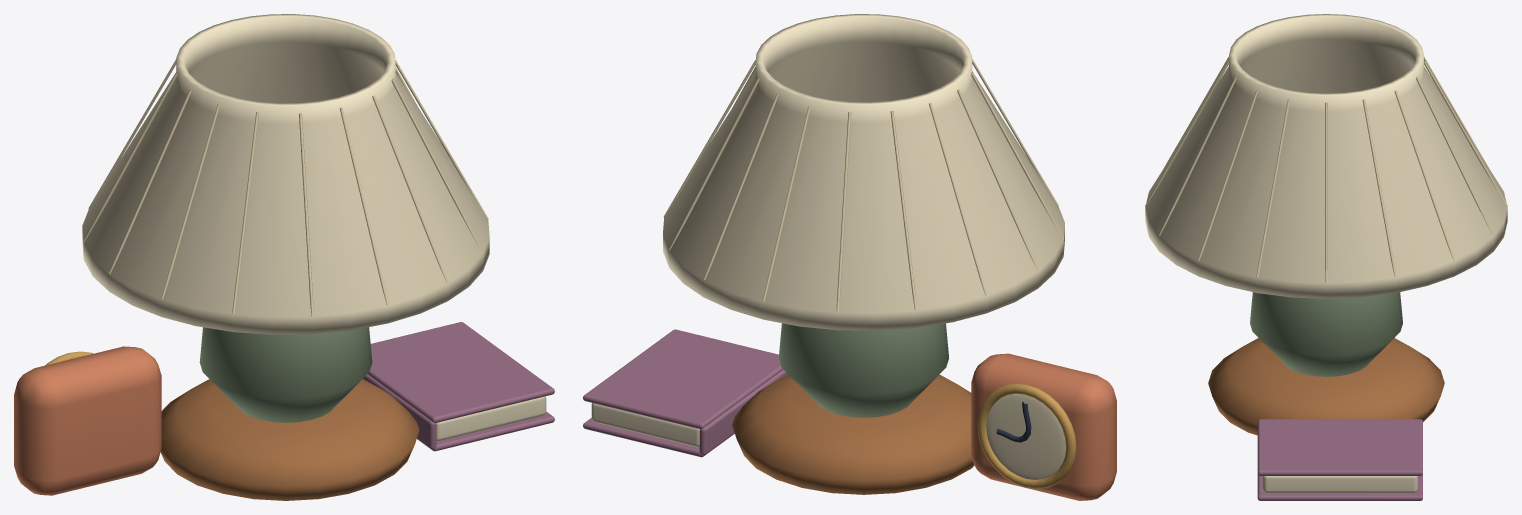
The model's file is bedside_set.glb.
3 views of the same model, side by side, from view 1: azimuth 30°, elevation 25°; view 2: azimuth 150°, elevation 25°; view 3: azimuth 270°, elevation 25° (orthographic). The views are drawn at different scales.
Parts seen in each view (by area): view 1: House07_bedside_set; view 2: House07_bedside_set; view 3: House07_bedside_set.
Boxes of the visible parts, <box> form: House07_bedside_set: <box>14,14,554,500</box>; House07_bedside_set: <box>583,14,1116,500</box>; House07_bedside_set: <box>1145,14,1507,500</box>.
Size of the model in its own units: 0.72 by 0.5493 by 0.5211.
